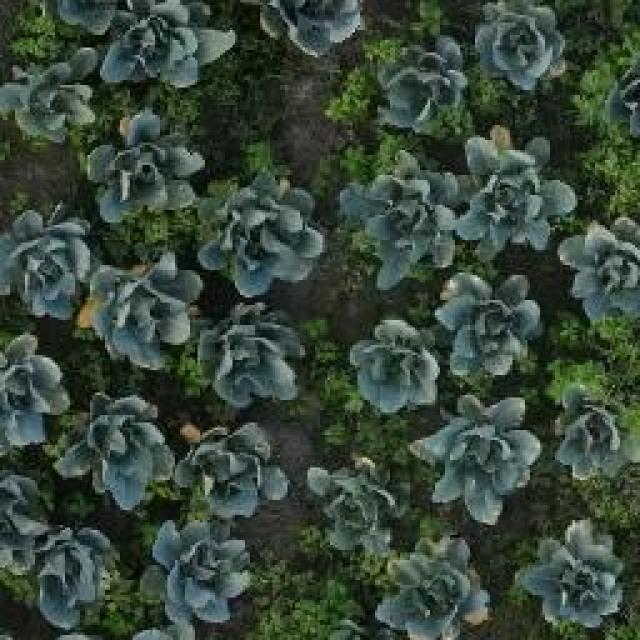cabbage: (86, 245, 206, 371), (61, 390, 179, 512), (524, 521, 640, 640), (373, 534, 498, 640), (202, 175, 312, 293), (85, 0, 226, 88), (174, 420, 293, 522), (145, 518, 257, 624), (428, 410, 534, 517), (462, 133, 568, 240), (197, 305, 310, 405), (362, 162, 458, 279), (90, 118, 200, 220), (0, 213, 91, 330), (301, 455, 405, 556), (442, 282, 544, 377), (471, 4, 574, 88), (0, 333, 71, 453), (559, 223, 640, 325), (3, 62, 99, 147), (376, 43, 462, 135), (45, 533, 128, 628), (352, 325, 441, 412), (0, 462, 58, 578), (557, 396, 640, 475), (258, 0, 364, 50)
